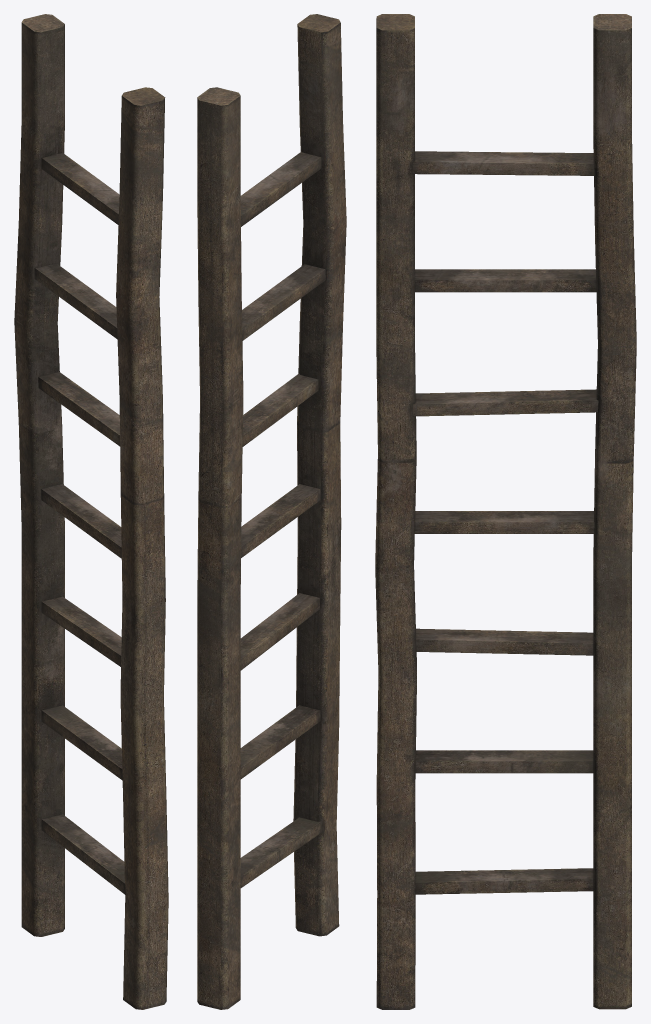
The model's file is SM_Ladder01.glb.
3 views of the same model, side by side, from view 1: azimuth 30°, elevation 25°; view 2: azimuth 150°, elevation 25°; view 3: azimuth 270°, elevation 25° (orthographic). The views are drawn at different scales.
Visible parts, largest first — view 1: SM_Ladder01; view 2: SM_Ladder01; view 3: SM_Ladder01.
Part boxes in pixels (x1,y1,x2,y2): SM_Ladder01: [14, 14, 168, 1009]; SM_Ladder01: [197, 14, 346, 1009]; SM_Ladder01: [375, 14, 636, 1009].
Bounding box in the file's own units: 0.0936 × 2 × 0.4839.
1 material, 1 textured.
